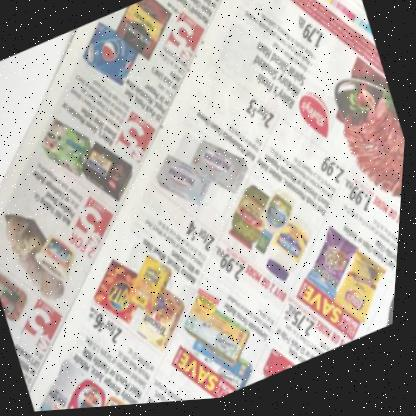Paper: (0, 0, 407, 412)
